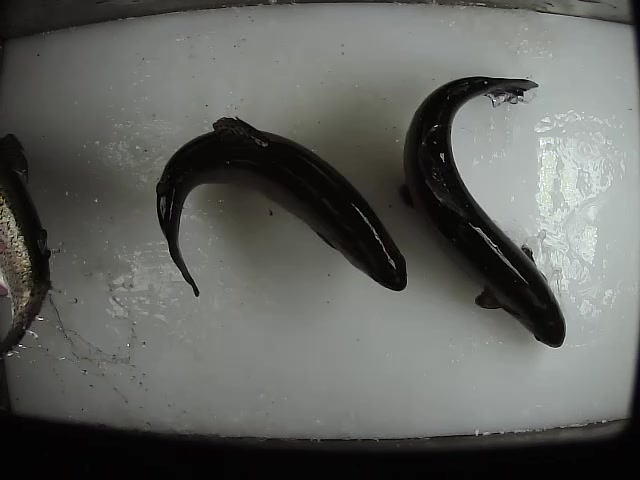fish: (152, 114, 409, 299), (399, 71, 565, 350), (1, 133, 52, 355)
